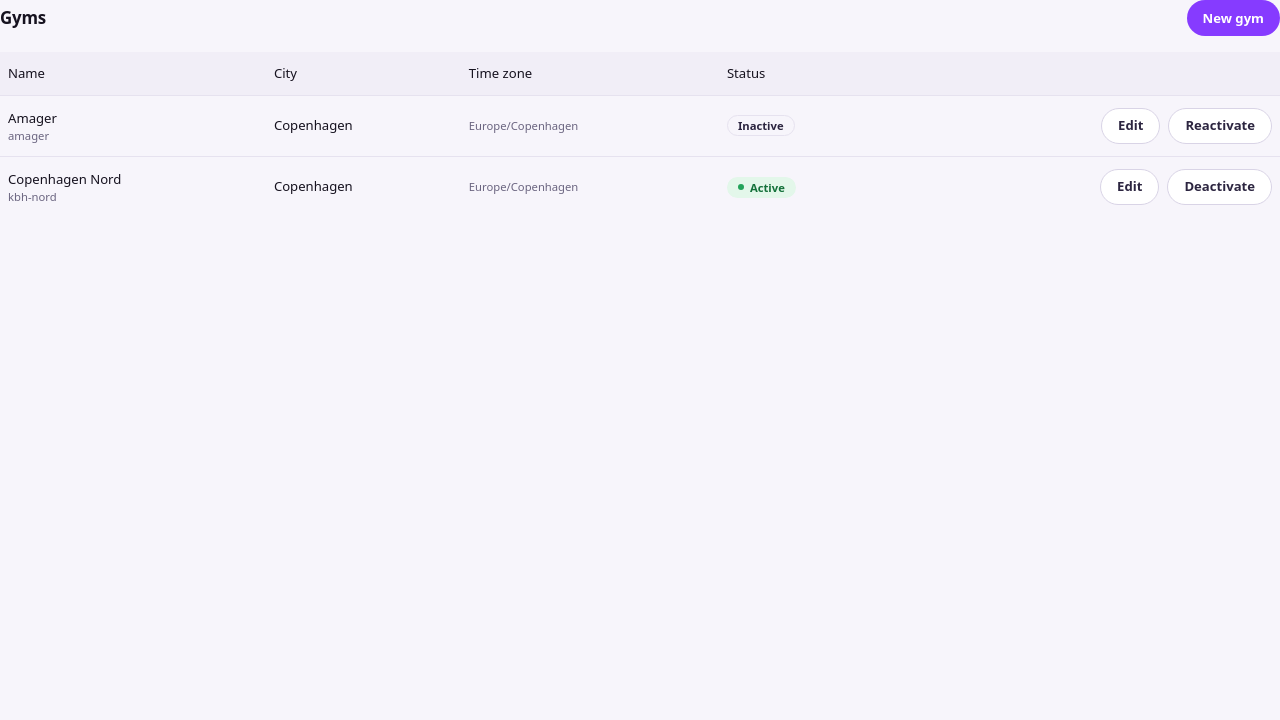
Test: GymsPanel › reports a failed save instead of closing the dialog
Click the button "New gym" at (1233, 18), box [1187, 0, 1279, 36]
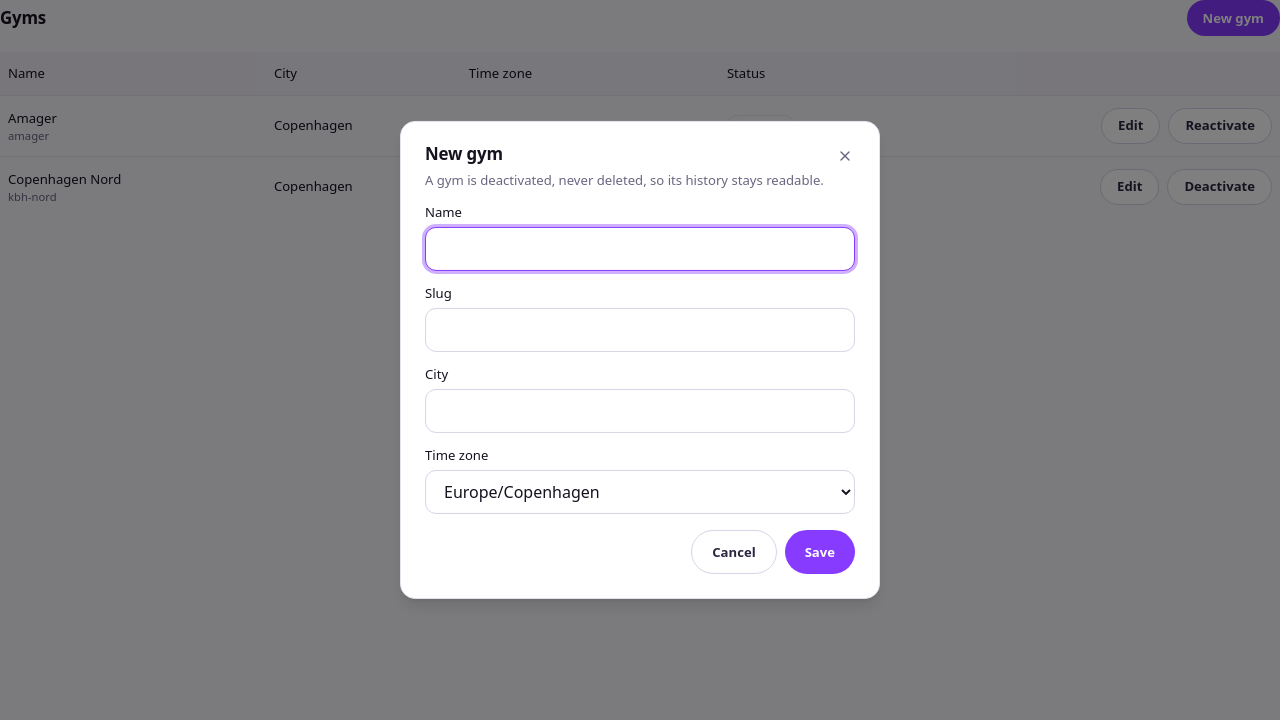
Type "Aarhus Vest" into the field labelled "Name" at (640, 249), box [425, 227, 855, 271]
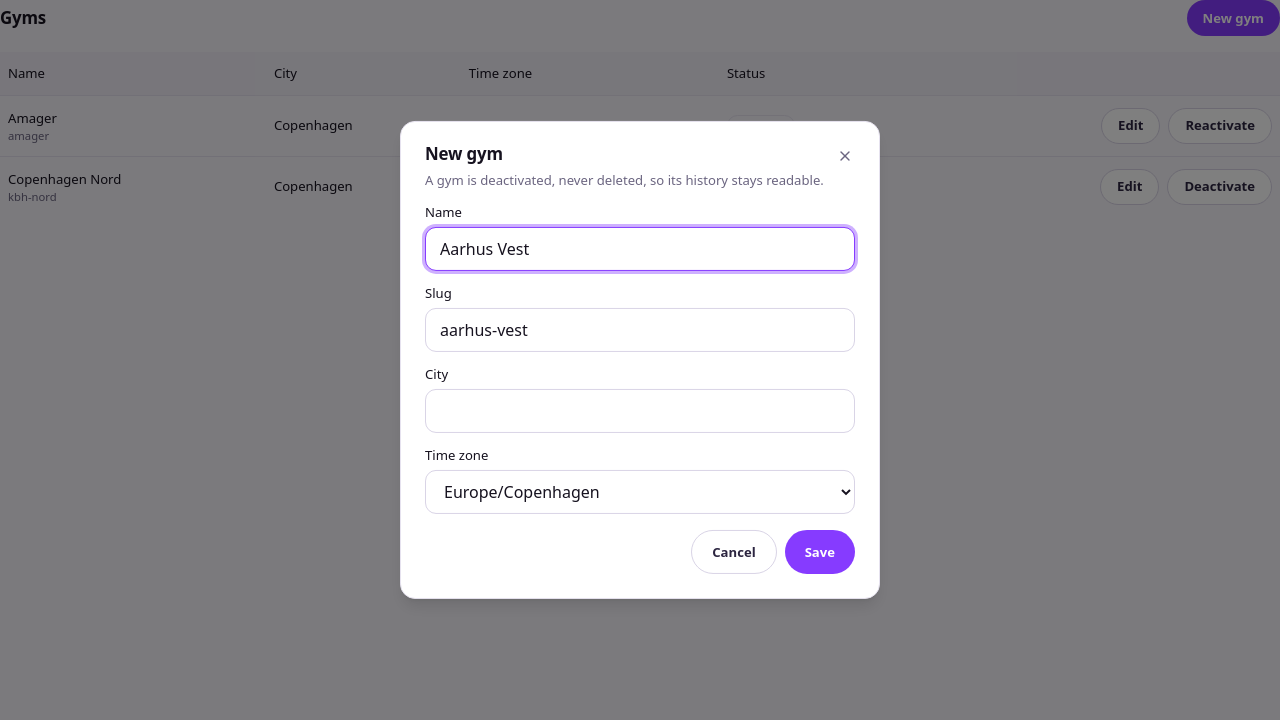
Click the button "Save" at (820, 552), box [785, 530, 855, 574]
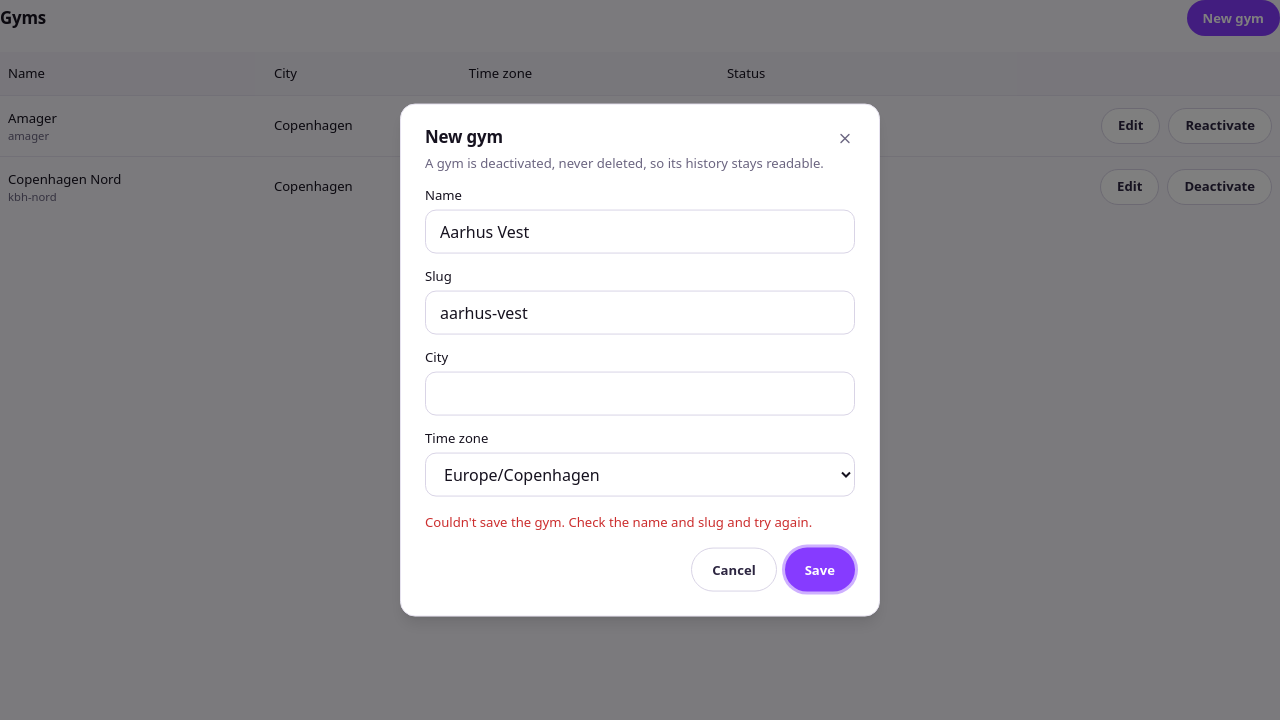
Check: the message shows "Couldn't save", box [425, 513, 812, 531]
